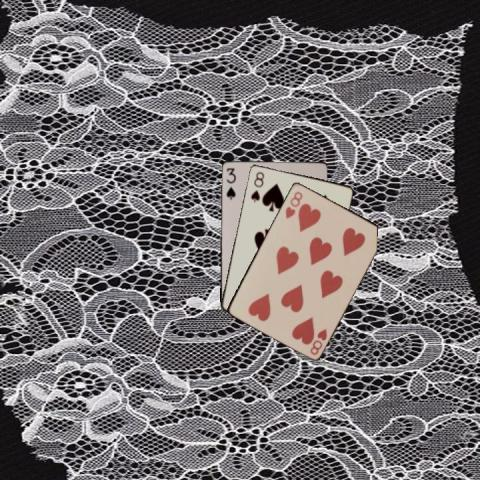3s: (223, 165, 237, 200)
8h: (306, 325, 329, 356), (282, 188, 304, 220)
8s: (248, 169, 266, 203)
